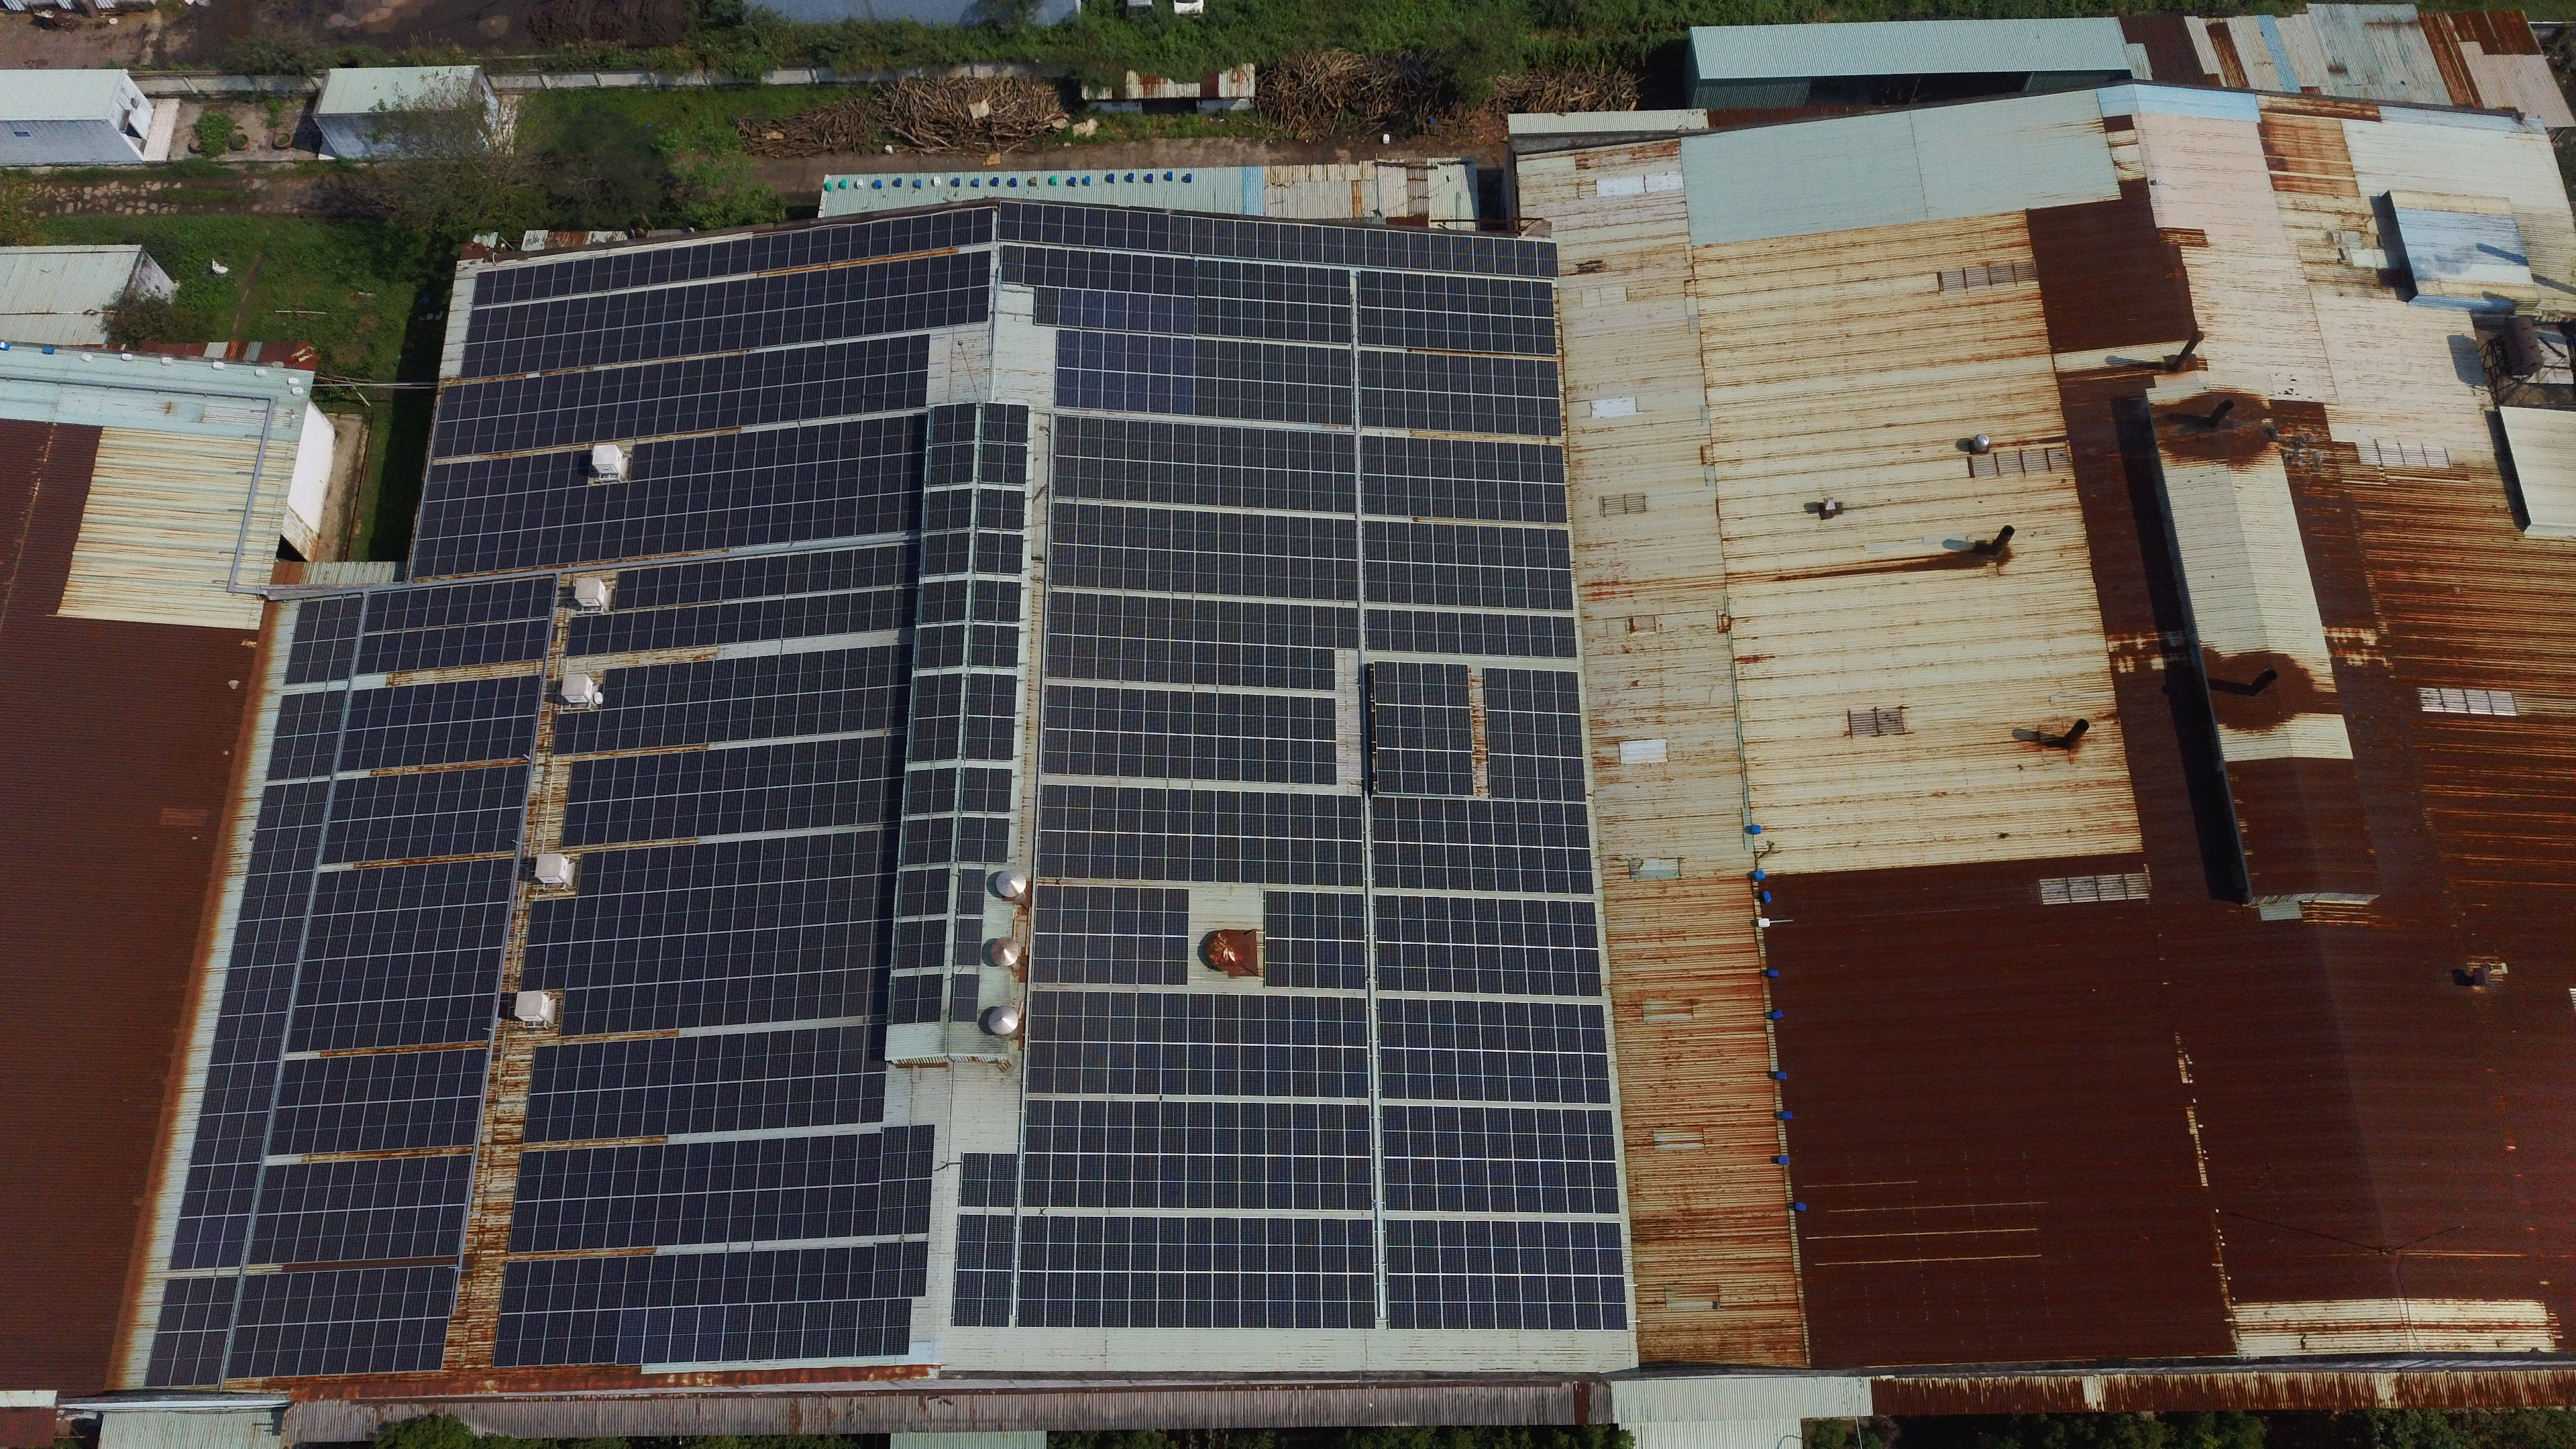solar: (144, 1332, 180, 1387), (168, 1330, 205, 1385), (193, 1330, 229, 1385), (205, 1277, 239, 1331), (181, 1277, 215, 1332), (156, 1279, 191, 1333), (615, 1308, 647, 1365), (642, 1307, 674, 1364), (667, 1306, 699, 1363), (693, 1305, 725, 1362), (721, 1305, 753, 1362), (747, 1303, 780, 1360), (773, 1302, 806, 1359), (800, 1301, 833, 1358), (828, 1300, 860, 1357), (854, 1299, 886, 1356), (227, 1324, 260, 1379), (247, 1325, 280, 1379), (272, 1324, 306, 1378), (297, 1322, 331, 1377), (321, 1321, 354, 1375), (344, 1320, 378, 1374), (368, 1319, 402, 1373), (392, 1318, 425, 1373), (417, 1317, 450, 1371), (490, 1313, 524, 1367), (515, 1313, 548, 1367), (540, 1311, 574, 1366), (565, 1310, 598, 1364), (588, 1309, 622, 1364), (881, 1299, 912, 1356), (898, 1240, 929, 1298), (871, 1242, 903, 1299), (846, 1244, 877, 1302), (822, 1244, 853, 1301), (796, 1246, 827, 1303), (769, 1247, 801, 1304), (745, 1249, 776, 1306), (720, 1250, 751, 1307), (695, 1251, 727, 1308), (670, 1252, 702, 1309), (646, 1254, 678, 1311), (622, 1254, 653, 1311), (596, 1254, 628, 1311), (572, 1256, 604, 1313), (548, 1258, 580, 1315), (523, 1260, 555, 1317), (500, 1259, 531, 1316), (981, 1271, 1013, 1327), (951, 1271, 983, 1327), (956, 1215, 988, 1271), (984, 1216, 1016, 1271), (1016, 1216, 1049, 1271), (1046, 1216, 1079, 1271), (1074, 1216, 1106, 1272), (1101, 1216, 1133, 1272), (1128, 1217, 1160, 1273), (1156, 1217, 1188, 1273), (1183, 1217, 1216, 1273), (1210, 1218, 1242, 1273), (1237, 1218, 1269, 1273), (1265, 1218, 1297, 1273), (1291, 1218, 1324, 1274), (1319, 1218, 1351, 1274), (1346, 1218, 1378, 1273), (1343, 1157, 1375, 1212), (1316, 1156, 1348, 1212), (1289, 1156, 1322, 1212), (1263, 1156, 1295, 1212), (1236, 1156, 1268, 1212), (1208, 1154, 1240, 1210), (1182, 1155, 1214, 1210), (1155, 1154, 1187, 1210), (1129, 1154, 1161, 1210), (1101, 1154, 1133, 1210), (1075, 1153, 1107, 1209), (1047, 1153, 1079, 1209), (1020, 1153, 1053, 1209), (987, 1152, 1020, 1208), (957, 1152, 989, 1208), (1024, 1099, 1056, 1155), (1050, 1099, 1082, 1155), (1076, 1100, 1108, 1156), (1104, 1099, 1136, 1155), (1130, 1100, 1163, 1156), (1157, 1101, 1189, 1157), (1184, 1100, 1216, 1156), (1210, 1102, 1242, 1158), (1238, 1102, 1270, 1157), (1262, 1102, 1294, 1158), (1289, 1103, 1321, 1159), (1315, 1103, 1347, 1159), (1343, 1104, 1375, 1159), (1342, 1044, 1374, 1099), (1313, 1045, 1346, 1101), (1288, 1043, 1320, 1099), (1261, 1042, 1293, 1098), (1235, 1042, 1267, 1098), (1210, 1043, 1242, 1099), (1185, 1042, 1218, 1098), (1158, 1041, 1190, 1097), (1130, 1043, 1163, 1099), (1104, 1041, 1136, 1097), (1077, 1040, 1110, 1095), (1050, 1040, 1082, 1095), (1024, 1040, 1056, 1095), (1026, 987, 1059, 1042), (1052, 989, 1084, 1045), (1081, 989, 1113, 1045), (1107, 989, 1139, 1044), (1134, 991, 1166, 1047), (1158, 991, 1190, 1047), (1185, 993, 1217, 1049), (1211, 991, 1243, 1047), (1235, 992, 1267, 1048), (1263, 994, 1295, 1050), (1289, 994, 1321, 1049), (1313, 996, 1345, 1051), (1340, 994, 1372, 1050), (1337, 938, 1369, 994), (1311, 938, 1343, 994), (1287, 936, 1319, 992), (1260, 936, 1293, 992), (1338, 890, 1370, 946), (1309, 888, 1342, 944), (1287, 888, 1319, 943), (1263, 887, 1295, 943), (1159, 933, 1191, 989), (1132, 931, 1165, 987), (1110, 931, 1142, 987), (1083, 932, 1115, 988), (1057, 932, 1089, 987), (1029, 930, 1061, 986), (1032, 881, 1065, 936), (1059, 883, 1091, 938), (1085, 883, 1117, 939), (1111, 882, 1143, 938), (1136, 882, 1168, 938), (1162, 885, 1194, 941), (1035, 826, 1067, 882), (1063, 829, 1095, 885), (1088, 828, 1120, 883), (1114, 828, 1146, 883), (1139, 829, 1171, 885), (1162, 828, 1194, 883), (1189, 830, 1221, 886), (1212, 831, 1244, 887), (1236, 833, 1268, 888), (1262, 834, 1294, 890), (1287, 835, 1320, 891), (1311, 836, 1343, 892), (1336, 835, 1368, 891), (1333, 792, 1365, 848), (1309, 792, 1341, 848), (1286, 790, 1318, 845), (1263, 788, 1295, 844), (1236, 787, 1268, 843), (1213, 787, 1245, 843), (1187, 787, 1219, 843), (1163, 784, 1195, 839), (1137, 782, 1169, 838), (1115, 784, 1147, 839), (1087, 782, 1119, 838), (1064, 782, 1096, 837), (1037, 782, 1069, 838), (508, 1198, 540, 1252), (531, 1199, 563, 1253), (555, 1197, 588, 1252), (578, 1197, 610, 1251), (604, 1195, 637, 1250), (627, 1194, 659, 1248), (653, 1193, 685, 1248), (677, 1192, 709, 1246), (702, 1191, 734, 1245), (726, 1190, 758, 1244), (751, 1189, 783, 1243), (775, 1187, 807, 1242), (800, 1185, 832, 1240), (824, 1185, 856, 1239), (849, 1183, 881, 1238), (875, 1181, 908, 1235), (901, 1179, 933, 1234), (904, 1125, 936, 1179), (878, 1126, 910, 1181), (851, 1132, 883, 1186), (827, 1132, 859, 1187), (802, 1135, 835, 1189), (779, 1136, 811, 1191), (754, 1136, 786, 1191), (730, 1138, 762, 1192), (706, 1139, 739, 1193), (682, 1140, 714, 1195), (656, 1142, 688, 1196), (633, 1144, 665, 1198), (609, 1144, 641, 1199), (585, 1145, 617, 1199), (561, 1146, 594, 1201), (539, 1148, 571, 1202), (169, 1217, 202, 1270), (194, 1216, 227, 1269), (217, 1215, 250, 1268), (247, 1214, 280, 1267), (270, 1212, 303, 1265), (292, 1210, 325, 1263), (316, 1210, 349, 1263), (339, 1208, 372, 1261), (362, 1207, 395, 1260), (386, 1205, 419, 1258), (409, 1205, 442, 1258), (433, 1203, 466, 1256), (425, 1266, 458, 1319), (400, 1267, 433, 1320), (376, 1268, 409, 1321), (353, 1269, 386, 1322), (329, 1270, 362, 1323), (305, 1271, 338, 1324), (282, 1272, 315, 1325), (258, 1273, 290, 1326), (235, 1275, 268, 1328), (515, 1148, 547, 1202), (523, 1091, 554, 1144), (545, 1089, 577, 1143), (568, 1089, 600, 1143), (593, 1087, 625, 1141), (615, 1086, 647, 1140), (641, 1085, 673, 1138), (665, 1083, 696, 1136), (688, 1082, 719, 1136), (711, 1080, 743, 1134), (737, 1079, 768, 1132), (759, 1077, 791, 1131), (784, 1076, 815, 1130), (808, 1075, 840, 1128), (833, 1073, 865, 1127), (856, 1073, 888, 1126), (859, 1022, 891, 1076), (265, 963, 297, 1014), (242, 965, 274, 1016), (219, 966, 252, 1016), (209, 1015, 241, 1065), (233, 1014, 265, 1065), (256, 1012, 288, 1063), (1383, 1157, 1413, 1211), (1409, 1157, 1439, 1212), (1436, 1159, 1466, 1213), (1462, 1159, 1492, 1214), (1487, 1159, 1516, 1214), (1513, 1160, 1543, 1214), (1540, 1160, 1569, 1214), (1566, 1161, 1596, 1215), (1591, 1161, 1620, 1215), (1596, 1222, 1625, 1277), (1568, 1222, 1598, 1276), (1543, 1222, 1572, 1276), (1517, 1222, 1547, 1276), (1492, 1222, 1521, 1276), (1466, 1220, 1495, 1275), (1437, 1220, 1466, 1274), (1411, 1219, 1440, 1273), (1385, 1220, 1415, 1274), (1386, 1274, 1415, 1328), (1413, 1275, 1443, 1330), (1440, 1275, 1470, 1330), (1468, 1275, 1497, 1329), (1495, 1275, 1524, 1329), (1520, 1275, 1550, 1330), (1548, 1275, 1577, 1330), (1572, 1275, 1602, 1330), (1599, 1275, 1629, 1330), (1348, 1274, 1377, 1328), (1321, 1274, 1350, 1328), (1292, 1273, 1322, 1328), (1265, 1274, 1295, 1328), (1238, 1273, 1268, 1328), (1212, 1273, 1241, 1327), (1185, 1273, 1215, 1328), (1157, 1273, 1186, 1327), (1130, 1272, 1159, 1326), (1102, 1273, 1131, 1327), (1073, 1273, 1103, 1327), (1045, 1272, 1075, 1326), (1016, 1272, 1046, 1326), (200, 1065, 231, 1116), (190, 1114, 221, 1165), (213, 1114, 245, 1164), (238, 1111, 270, 1161), (268, 1107, 299, 1157), (290, 1106, 321, 1156), (313, 1104, 345, 1154), (335, 1103, 366, 1153), (358, 1102, 390, 1152), (380, 1100, 412, 1150), (404, 1099, 435, 1149), (427, 1098, 458, 1148), (451, 1097, 483, 1147), (442, 1155, 474, 1205), (418, 1157, 449, 1207), (395, 1157, 427, 1207), (370, 1159, 402, 1209), (348, 1160, 380, 1210), (325, 1160, 357, 1210), (303, 1162, 334, 1212), (278, 1164, 310, 1214), (257, 1165, 288, 1216), (227, 1165, 259, 1215), (204, 1166, 235, 1216), (180, 1167, 211, 1217), (838, 1023, 867, 1075), (814, 1026, 843, 1079), (788, 1028, 818, 1081), (765, 1028, 794, 1081), (740, 1030, 769, 1083), (716, 1032, 745, 1085), (693, 1034, 722, 1086), (669, 1035, 699, 1087), (646, 1036, 676, 1089), (623, 1038, 652, 1090), (599, 1039, 629, 1091), (575, 1041, 604, 1093), (552, 1043, 582, 1095), (529, 1044, 558, 1096), (559, 986, 589, 1038), (582, 985, 612, 1037), (605, 983, 635, 1035), (628, 982, 657, 1034), (652, 980, 682, 1032), (676, 979, 705, 1031), (700, 977, 729, 1029), (722, 975, 751, 1027), (746, 973, 775, 1025), (769, 971, 799, 1023), (792, 969, 822, 1022), (816, 967, 846, 1020), (841, 965, 870, 1017), (865, 965, 895, 1017), (867, 918, 897, 970), (844, 918, 873, 971), (820, 921, 849, 973), (797, 923, 826, 975), (773, 924, 803, 976), (749, 926, 779, 979), (725, 928, 755, 981), (703, 931, 733, 983), (680, 932, 709, 985), (657, 934, 686, 986), (634, 934, 663, 987), (610, 936, 639, 988), (587, 938, 616, 990), (564, 938, 594, 991), (541, 941, 571, 993), (520, 943, 549, 995), (526, 898, 555, 950), (547, 896, 577, 949), (570, 894, 599, 946), (592, 892, 622, 945), (616, 890, 645, 943), (639, 889, 668, 941), (661, 887, 690, 939), (684, 886, 713, 938), (708, 884, 737, 936), (731, 883, 760, 935), (753, 880, 783, 932), (776, 879, 806, 931), (800, 877, 830, 929), (824, 875, 854, 927), (848, 874, 877, 926), (871, 871, 900, 923), (874, 825, 904, 877), (850, 826, 879, 878), (828, 828, 857, 881), (803, 832, 833, 884), (781, 833, 810, 885), (757, 835, 786, 887), (287, 1004, 318, 1053), (308, 1003, 339, 1053), (329, 1002, 360, 1051), (352, 1001, 383, 1051), (376, 1000, 407, 1049), (398, 998, 429, 1048), (420, 997, 451, 1046), (443, 996, 474, 1045), (466, 994, 496, 1044), (458, 1048, 488, 1097), (435, 1049, 466, 1099), (412, 1051, 443, 1101), (389, 1053, 420, 1102), (366, 1055, 397, 1104), (343, 1054, 374, 1104), (321, 1057, 352, 1106), (298, 1059, 329, 1108), (276, 1059, 307, 1108), (248, 1062, 278, 1112), (224, 1064, 255, 1114), (1407, 1106, 1436, 1157), (1381, 1105, 1410, 1157), (1379, 1048, 1407, 1099), (1404, 1049, 1433, 1100), (1431, 1051, 1460, 1102), (1456, 1050, 1485, 1101), (1481, 1051, 1510, 1102), (1507, 1051, 1536, 1102), (1533, 1052, 1562, 1103), (1557, 1052, 1586, 1103), (1582, 1053, 1611, 1104), (1587, 1110, 1616, 1161), (1561, 1109, 1590, 1160), (1537, 1109, 1566, 1160), (1509, 1108, 1538, 1159), (1485, 1108, 1513, 1159), (1459, 1108, 1488, 1159), (1434, 1107, 1462, 1158), (237, 874, 268, 922), (229, 920, 260, 967), (251, 918, 282, 966), (274, 918, 305, 965), (301, 914, 332, 962), (324, 912, 355, 960), (346, 912, 377, 959), (368, 910, 398, 958), (391, 909, 422, 957), (412, 907, 443, 955), (434, 905, 465, 953), (456, 904, 487, 951), (479, 902, 510, 950), (474, 947, 504, 994), (449, 949, 480, 997), (427, 951, 458, 999), (405, 953, 436, 1000), (382, 954, 413, 1002), (360, 955, 391, 1003), (337, 956, 368, 1004), (316, 958, 347, 1006), (294, 960, 325, 1008), (737, 837, 766, 886), (711, 841, 741, 890), (689, 841, 718, 891), (667, 842, 696, 892), (644, 845, 674, 895), (621, 846, 651, 896), (598, 847, 628, 897), (576, 849, 606, 898), (560, 800, 590, 849), (582, 800, 612, 849), (604, 797, 634, 847), (627, 796, 657, 846), (649, 792, 680, 841), (671, 792, 701, 841), (693, 791, 723, 839), (715, 788, 745, 837), (739, 787, 769, 835), (761, 785, 792, 833), (784, 784, 814, 832), (807, 782, 837, 830), (830, 780, 861, 828), (854, 779, 884, 827), (878, 776, 908, 824), (1375, 941, 1403, 991), (1400, 943, 1429, 993), (1426, 944, 1455, 994), (1450, 945, 1479, 994), (1475, 945, 1504, 994), (1501, 946, 1529, 996), (1525, 947, 1554, 996), (1550, 947, 1579, 997), (1574, 948, 1603, 998), (1580, 1004, 1609, 1053), (1554, 1004, 1583, 1053), (1529, 1003, 1558, 1053), (1505, 1002, 1534, 1052), (1479, 1001, 1508, 1051), (1453, 1000, 1482, 1050), (1428, 1000, 1456, 1049), (1402, 999, 1431, 1049), (1377, 998, 1405, 1048), (919, 918, 948, 967), (955, 917, 983, 966), (951, 973, 980, 1022), (914, 974, 943, 1023), (891, 975, 920, 1024), (300, 782, 330, 827), (278, 783, 309, 828), (256, 784, 286, 830), (248, 828, 278, 874), (270, 826, 301, 872), (292, 826, 322, 871), (283, 641, 313, 686), (305, 639, 335, 684), (326, 638, 356, 682), (930, 767, 959, 814), (905, 769, 934, 816), (902, 819, 930, 865), (926, 818, 955, 864), (955, 815, 983, 861), (981, 816, 1010, 863), (957, 869, 985, 916), (924, 868, 953, 914), (898, 869, 927, 916), (894, 922, 922, 969), (322, 819, 351, 865), (342, 817, 371, 863), (363, 816, 392, 863), (384, 815, 413, 861), (407, 814, 435, 860), (429, 812, 458, 859), (450, 810, 479, 856), (472, 808, 500, 855), (494, 807, 523, 853), (488, 857, 517, 904), (465, 859, 494, 906), (442, 861, 471, 907), (421, 863, 450, 909), (399, 864, 428, 910), (376, 866, 405, 912), (354, 867, 382, 913), (332, 870, 361, 916), (312, 871, 341, 918), (283, 872, 312, 918), (261, 873, 290, 919), (812, 740, 841, 785), (790, 741, 819, 786), (767, 743, 796, 788), (743, 745, 772, 790), (720, 747, 749, 792), (699, 749, 728, 794), (677, 750, 706, 795), (654, 753, 683, 798), (632, 754, 661, 799), (610, 756, 639, 801), (588, 758, 617, 803), (566, 760, 595, 805), (500, 765, 529, 810), (478, 766, 507, 811), (458, 768, 486, 813), (435, 769, 464, 814), (414, 771, 443, 816), (393, 772, 422, 817), (370, 775, 399, 820), (350, 777, 378, 822), (330, 777, 359, 822), (275, 694, 304, 737), (266, 737, 295, 780), (289, 735, 318, 779), (311, 733, 339, 777), (337, 730, 366, 773), (358, 727, 387, 771), (379, 726, 408, 769), (400, 724, 429, 768), (422, 723, 451, 767), (444, 720, 473, 764), (464, 719, 492, 763), (485, 717, 514, 761), (508, 715, 537, 759), (550, 712, 579, 756), (572, 710, 601, 754), (594, 709, 623, 753), (616, 706, 645, 750), (638, 705, 667, 749), (660, 703, 689, 747), (682, 702, 710, 745), (703, 700, 732, 744), (727, 698, 755, 741), (748, 696, 777, 740), (771, 694, 800, 738), (794, 693, 823, 737), (816, 691, 845, 735), (839, 689, 867, 733), (862, 687, 891, 731), (884, 686, 913, 729), (881, 735, 910, 779), (856, 736, 885, 780), (835, 738, 864, 782), (1372, 842, 1399, 888), (1397, 843, 1424, 890), (1421, 843, 1448, 890), (1446, 845, 1473, 891), (1471, 845, 1498, 891), (1495, 845, 1521, 892), (1519, 846, 1546, 892), (1544, 847, 1570, 894), (1568, 848, 1595, 894), (1572, 902, 1599, 948), (1549, 901, 1576, 947), (1522, 900, 1549, 947), (1499, 899, 1525, 945), (1473, 899, 1500, 945), (1449, 898, 1476, 944), (1424, 897, 1451, 943), (1399, 896, 1426, 942), (1373, 896, 1400, 942), (356, 633, 384, 676), (374, 631, 403, 674), (396, 630, 425, 673), (416, 629, 445, 672), (437, 627, 466, 669), (458, 625, 487, 667), (480, 623, 509, 665), (500, 621, 529, 663), (521, 619, 550, 662), (888, 643, 916, 686), (864, 646, 892, 690), (843, 647, 870, 690), (820, 649, 847, 693), (798, 651, 825, 694), (775, 653, 802, 697), (753, 655, 780, 699), (731, 656, 758, 700), (709, 657, 737, 701), (686, 661, 714, 704), (665, 661, 693, 705), (643, 664, 671, 708), (622, 665, 649, 709), (600, 667, 628, 710), (514, 674, 541, 717), (493, 677, 521, 720), (472, 678, 499, 722), (450, 680, 478, 723), (429, 682, 456, 725), (409, 683, 436, 727), (386, 685, 414, 729), (366, 686, 393, 730), (345, 688, 373, 732), (317, 690, 345, 734), (297, 692, 324, 736), (1050, 543, 1077, 586), (1075, 545, 1102, 589), (1097, 547, 1125, 591), (1122, 548, 1150, 592), (1146, 549, 1173, 592), (1169, 549, 1197, 593), (1192, 552, 1220, 596), (1218, 553, 1245, 596), (1240, 555, 1268, 598), (1263, 555, 1291, 598), (1286, 557, 1313, 600), (1309, 557, 1337, 601), (1333, 558, 1360, 602), (1363, 561, 1391, 604), (1387, 561, 1414, 605), (1410, 563, 1438, 606), (1432, 563, 1460, 606), (1456, 564, 1483, 608), (1480, 566, 1507, 610), (1502, 566, 1529, 610), (1524, 567, 1552, 610), (1548, 569, 1575, 612), (1552, 614, 1579, 658), (1528, 615, 1556, 659), (1505, 614, 1533, 658), (1483, 613, 1510, 657), (1458, 612, 1486, 656), (1435, 612, 1462, 655), (1412, 610, 1440, 654), (1389, 609, 1416, 653), (1364, 608, 1392, 652), (1334, 607, 1362, 651), (1311, 606, 1338, 649), (1287, 604, 1314, 648), (1263, 603, 1290, 647), (1240, 602, 1267, 645), (1217, 600, 1244, 643), (1193, 600, 1221, 643), (1169, 598, 1196, 642), (1144, 597, 1172, 641), (1120, 596, 1148, 640), (1096, 594, 1124, 637), (1071, 593, 1099, 637), (1048, 591, 1075, 635), (1046, 635, 1074, 678), (1070, 636, 1097, 680), (1095, 637, 1123, 681), (1120, 637, 1148, 681), (1143, 640, 1171, 684), (1168, 641, 1195, 684), (1192, 641, 1220, 685), (1216, 644, 1243, 688), (1239, 645, 1267, 688), (1264, 645, 1291, 689), (1287, 647, 1315, 690), (1310, 647, 1338, 691), (1372, 661, 1399, 704), (1396, 663, 1424, 706), (1420, 663, 1448, 706), (1444, 663, 1471, 707), (1483, 667, 1511, 711), (1507, 669, 1535, 712), (1532, 669, 1559, 713), (1553, 670, 1580, 714), (1556, 714, 1584, 757), (1535, 712, 1562, 756), (1509, 712, 1537, 755), (1487, 711, 1514, 755), (1446, 707, 1474, 751), (1422, 707, 1450, 751), (1397, 706, 1425, 749), (1375, 705, 1402, 749), (1310, 697, 1338, 741), (1287, 696, 1315, 740), (1263, 696, 1290, 739), (1238, 694, 1266, 738), (1215, 692, 1242, 736), (1191, 693, 1218, 737), (1167, 691, 1195, 735), (1143, 690, 1171, 734), (1118, 689, 1146, 733), (1093, 688, 1121, 731), (1069, 686, 1097, 730), (1044, 686, 1072, 729), (1042, 730, 1069, 773), (1069, 731, 1096, 775), (1092, 732, 1120, 775), (1116, 733, 1144, 776), (1141, 734, 1169, 777), (1166, 735, 1193, 779), (1190, 737, 1218, 780), (1214, 738, 1241, 782), (1238, 738, 1266, 782), (1263, 739, 1290, 783), (1288, 740, 1316, 784), (1311, 741, 1338, 785), (1375, 748, 1403, 792), (1401, 750, 1428, 794), (1425, 750, 1452, 794), (1448, 751, 1475, 795), (1489, 755, 1516, 798), (1513, 755, 1540, 799), (1536, 756, 1564, 800), (1561, 757, 1589, 801), (1564, 804, 1591, 848), (1540, 803, 1568, 847), (1515, 802, 1542, 845), (1492, 802, 1519, 845), (1467, 800, 1495, 844), (1443, 800, 1470, 844), (1419, 799, 1447, 843), (1394, 799, 1421, 843), (1371, 798, 1398, 841), (336, 597, 364, 640), (315, 599, 342, 642), (292, 600, 320, 643), (937, 673, 963, 717), (914, 674, 941, 718), (910, 718, 936, 762), (934, 717, 961, 761), (965, 715, 991, 759), (989, 716, 1015, 761), (986, 769, 1012, 813), (963, 767, 989, 812), (566, 614, 592, 656), (586, 613, 613, 655), (607, 612, 634, 653), (629, 610, 655, 652), (650, 608, 677, 650), (672, 607, 699, 649), (694, 604, 720, 646), (714, 603, 741, 645), (737, 601, 763, 643), (759, 598, 786, 640), (781, 597, 808, 639), (803, 595, 830, 637), (824, 594, 851, 635), (847, 592, 873, 633), (869, 590, 896, 631), (893, 588, 920, 630), (1034, 285, 1061, 326), (1058, 288, 1085, 329), (1079, 290, 1106, 331), (1103, 292, 1130, 333), (1124, 292, 1151, 333), (1148, 294, 1175, 335), (1172, 294, 1199, 335), (1194, 295, 1221, 336), (1216, 297, 1243, 338), (1238, 299, 1265, 339), (1262, 301, 1289, 341), (1283, 303, 1310, 343), (1305, 303, 1332, 344), (1328, 305, 1355, 345), (1358, 306, 1385, 347), (1380, 309, 1407, 350), (1402, 309, 1429, 350), (1424, 311, 1450, 352), (1447, 311, 1474, 352), (1467, 312, 1494, 353), (1488, 313, 1515, 354), (1510, 315, 1537, 356), (1532, 316, 1558, 357), (1535, 359, 1562, 400), (1513, 358, 1540, 398), (1491, 357, 1518, 398), (1468, 356, 1495, 396), (1446, 356, 1473, 396), (1425, 354, 1452, 394), (1403, 353, 1430, 394), (1381, 350, 1407, 390), (1358, 350, 1385, 390), (1328, 347, 1354, 388), (1304, 346, 1331, 387), (1283, 344, 1310, 385), (1260, 343, 1287, 384), (1238, 341, 1265, 382), (1216, 341, 1242, 382), (1191, 338, 1218, 379), (1170, 337, 1197, 378), (1147, 336, 1174, 377), (1124, 334, 1151, 375), (1102, 332, 1128, 373), (1079, 331, 1106, 372), (1055, 329, 1081, 370), (1053, 368, 1080, 409), (1077, 370, 1104, 411), (1100, 371, 1127, 412), (1124, 372, 1150, 413), (1146, 374, 1173, 415), (1169, 375, 1195, 416), (1191, 376, 1218, 417), (1216, 379, 1242, 420), (1240, 380, 1267, 421), (1260, 382, 1287, 423), (1284, 382, 1311, 423), (1306, 384, 1333, 425), (1328, 386, 1354, 427), (1358, 388, 1385, 429), (1381, 388, 1408, 429), (1403, 389, 1430, 430), (1426, 390, 1452, 431), (1448, 392, 1475, 433), (1470, 393, 1497, 434), (1493, 395, 1520, 436), (1514, 396, 1541, 437), (1538, 396, 1565, 437), (1540, 443, 1566, 484), (1518, 441, 1545, 482), (1495, 442, 1521, 483), (1472, 440, 1499, 481), (1451, 439, 1478, 480), (1428, 438, 1455, 479), (1406, 437, 1433, 478), (1382, 437, 1409, 478), (1360, 436, 1387, 477), (1332, 433, 1358, 474), (1309, 432, 1336, 473), (1285, 431, 1311, 472), (1263, 429, 1289, 470), (1241, 427, 1268, 468), (1217, 425, 1244, 466), (1193, 425, 1220, 466), (1171, 424, 1197, 465), (1148, 422, 1175, 463), (1124, 421, 1151, 462), (1102, 420, 1128, 461), (1079, 417, 1106, 458), (916, 626, 942, 669), (902, 413, 928, 454), (900, 452, 926, 494), (877, 453, 904, 495), (855, 455, 881, 497), (835, 458, 861, 499), (814, 460, 840, 502), (792, 462, 818, 504), (769, 464, 796, 505), (750, 467, 776, 508), (729, 468, 755, 510), (708, 471, 734, 513), (686, 474, 712, 515), (666, 475, 692, 517), (645, 477, 671, 519), (624, 479, 650, 521), (604, 481, 630, 523), (582, 483, 608, 525), (561, 486, 588, 527), (541, 488, 568, 529), (521, 490, 547, 531), (500, 492, 527, 533), (480, 494, 506, 535), (460, 496, 486, 538), (439, 498, 466, 539), (419, 500, 445, 541), (413, 538, 439, 580), (433, 537, 459, 578), (454, 535, 480, 576), (474, 531, 500, 573), (494, 530, 521, 572), (515, 528, 541, 570), (535, 527, 561, 568), (557, 524, 583, 566), (578, 522, 604, 563), (598, 520, 625, 561), (620, 518, 646, 559), (640, 516, 666, 557), (661, 513, 688, 555), (682, 511, 708, 553), (703, 510, 729, 551), (724, 507, 751, 549), (745, 504, 771, 546), (767, 504, 794, 545), (789, 501, 815, 543), (811, 499, 837, 541), (833, 497, 859, 539), (855, 496, 881, 537), (875, 493, 902, 535), (898, 490, 924, 532), (895, 543, 921, 585), (871, 546, 898, 588), (851, 548, 877, 590), (828, 550, 855, 592), (807, 551, 833, 593), (784, 554, 810, 596), (763, 556, 789, 598), (741, 557, 767, 599), (718, 559, 745, 600), (700, 561, 726, 602), (676, 564, 702, 606), (655, 566, 682, 608), (635, 568, 661, 610), (614, 569, 640, 610), (529, 576, 555, 618), (508, 579, 534, 621), (487, 581, 513, 623), (467, 583, 493, 625), (446, 585, 472, 627), (425, 586, 451, 627), (405, 588, 431, 629), (384, 590, 411, 632), (363, 593, 389, 635), (1055, 417, 1081, 458), (1053, 457, 1079, 498), (1078, 458, 1104, 498), (1102, 460, 1128, 500), (1124, 461, 1150, 502), (1147, 462, 1173, 502), (1171, 463, 1197, 504), (1194, 464, 1220, 505), (1217, 466, 1243, 506), (1240, 468, 1267, 508), (1264, 469, 1290, 510), (1288, 470, 1314, 511), (1310, 471, 1336, 512), (1333, 474, 1359, 515), (1361, 475, 1387, 516), (1385, 476, 1411, 517), (1408, 477, 1434, 518), (1430, 478, 1456, 519), (1452, 480, 1479, 521), (1474, 480, 1501, 521), (1499, 481, 1525, 522), (1520, 482, 1546, 523), (1542, 484, 1568, 525), (1546, 529, 1572, 570), (1523, 528, 1549, 569), (1500, 527, 1526, 568), (1478, 525, 1504, 566), (1455, 525, 1481, 566), (1432, 525, 1458, 566), (1409, 523, 1435, 563), (1386, 522, 1412, 563), (1362, 521, 1389, 561), (1334, 519, 1360, 559), (1309, 518, 1335, 559), (1287, 517, 1313, 558), (1264, 515, 1290, 556), (1241, 514, 1267, 555), (1217, 513, 1243, 553), (1195, 511, 1221, 552), (1171, 510, 1197, 551), (1148, 508, 1174, 549), (1124, 508, 1150, 549), (1099, 506, 1126, 547), (1075, 504, 1102, 545), (1053, 503, 1079, 544), (941, 625, 965, 667), (971, 624, 996, 667), (995, 624, 1020, 667), (991, 674, 1016, 716), (968, 674, 993, 716), (977, 488, 1003, 528), (1000, 490, 1025, 530), (998, 533, 1024, 574), (976, 533, 1002, 573), (945, 533, 971, 573), (923, 534, 949, 574), (996, 582, 1022, 623), (972, 581, 998, 621), (943, 581, 969, 621), (920, 582, 945, 623), (740, 352, 765, 390), (761, 349, 786, 388), (781, 347, 806, 386), (802, 345, 828, 384), (822, 343, 848, 382), (843, 340, 869, 379), (865, 338, 890, 377), (885, 336, 910, 375), (906, 334, 932, 373), (533, 410, 559, 449), (513, 413, 538, 451), (493, 415, 519, 453), (473, 417, 498, 455), (452, 418, 478, 457), (432, 420, 458, 459), (425, 463, 450, 502), (445, 462, 471, 501), (466, 460, 491, 499), (486, 458, 511, 497), (506, 456, 531, 495), (526, 453, 551, 492), (547, 451, 573, 490), (567, 449, 592, 488), (628, 443, 653, 482), (649, 441, 674, 480), (670, 438, 696, 477), (691, 435, 716, 474), (712, 433, 737, 472), (733, 432, 758, 471), (753, 429, 779, 468), (774, 427, 800, 466), (795, 425, 820, 464), (816, 423, 842, 462), (837, 421, 863, 460), (858, 419, 883, 458), (879, 417, 905, 455), (998, 201, 1022, 241), (1020, 203, 1044, 244), (1041, 203, 1065, 244), (1063, 205, 1087, 246), (1083, 207, 1107, 248), (1105, 209, 1129, 250), (1126, 210, 1150, 251), (1148, 213, 1173, 254), (1169, 214, 1193, 255), (1191, 216, 1216, 257), (1213, 218, 1237, 259), (1235, 220, 1259, 261), (1256, 221, 1280, 262), (1279, 223, 1303, 264), (1301, 223, 1326, 264), (1321, 225, 1345, 266), (1344, 227, 1368, 268), (1366, 229, 1390, 270), (1387, 231, 1411, 272), (1407, 232, 1432, 273), (1430, 232, 1454, 273), (1451, 233, 1475, 274), (1472, 235, 1497, 276), (1493, 236, 1517, 277), (1515, 237, 1539, 278), (1536, 240, 1560, 281), (1532, 278, 1556, 319), (1509, 280, 1534, 321), (1489, 278, 1513, 319), (1467, 276, 1491, 317), (1444, 275, 1468, 316), (1424, 273, 1448, 314), (1402, 272, 1426, 313), (1380, 270, 1404, 311), (1358, 269, 1382, 310), (1328, 267, 1352, 308), (1307, 266, 1331, 307), (1285, 265, 1309, 306), (1263, 263, 1287, 304), (1240, 262, 1265, 303), (1219, 260, 1243, 301), (1195, 258, 1220, 299), (1173, 257, 1197, 298), (1152, 256, 1176, 297), (1130, 254, 1155, 295), (1109, 252, 1133, 293), (1087, 252, 1112, 292), (1067, 250, 1091, 290), (1044, 248, 1069, 289), (1022, 246, 1046, 286), (1002, 244, 1026, 284), (931, 403, 956, 443), (952, 402, 977, 442), (983, 402, 1008, 442), (1005, 402, 1030, 442), (1003, 444, 1028, 484), (981, 443, 1006, 483), (951, 443, 975, 483), (928, 446, 953, 486), (925, 490, 950, 530), (948, 489, 973, 529), (439, 384, 464, 422), (458, 383, 483, 421), (479, 382, 504, 419), (498, 378, 523, 416), (519, 377, 543, 415), (538, 374, 563, 412), (558, 372, 583, 410), (579, 370, 604, 408), (598, 368, 623, 406), (619, 366, 643, 403), (639, 364, 663, 401), (659, 361, 684, 398), (680, 360, 704, 397), (700, 357, 724, 394), (720, 355, 745, 392), (905, 370, 928, 409), (884, 372, 908, 411), (863, 375, 886, 414), (842, 376, 865, 415), (821, 378, 845, 417), (800, 382, 823, 421), (779, 384, 802, 423), (759, 386, 782, 425), (738, 388, 761, 427), (716, 390, 740, 429), (697, 392, 720, 431), (676, 394, 699, 433), (655, 396, 679, 435), (635, 398, 659, 437), (615, 401, 639, 440), (595, 403, 619, 442), (574, 406, 597, 445), (555, 408, 578, 447), (472, 271, 496, 307), (492, 268, 517, 303), (511, 266, 536, 302), (530, 264, 555, 300), (550, 261, 575, 297), (570, 258, 595, 294), (589, 256, 614, 292), (608, 254, 633, 290), (628, 251, 653, 286), (648, 248, 673, 284), (668, 246, 693, 282), (688, 244, 712, 279), (708, 241, 733, 277), (727, 237, 751, 273), (747, 235, 772, 271), (767, 233, 792, 269), (787, 231, 812, 267), (806, 229, 831, 265), (827, 226, 852, 262), (847, 223, 872, 258), (867, 221, 892, 256), (888, 218, 912, 254), (908, 216, 933, 252), (929, 213, 954, 248), (950, 211, 975, 246), (971, 209, 996, 244), (967, 251, 992, 286), (947, 254, 972, 289), (926, 256, 951, 291), (906, 258, 930, 293), (886, 261, 911, 297), (865, 264, 890, 299), (845, 266, 869, 301), (822, 268, 847, 304), (803, 271, 828, 307), (782, 273, 807, 309), (763, 275, 788, 311), (742, 278, 767, 313), (723, 280, 748, 315), (703, 282, 728, 318), (683, 283, 708, 319), (663, 286, 688, 321), (643, 288, 667, 324), (623, 290, 648, 326), (603, 293, 628, 329), (584, 296, 609, 331), (563, 298, 588, 333), (544, 300, 569, 335), (525, 302, 549, 337), (506, 304, 531, 339), (485, 307, 510, 342), (466, 308, 491, 343), (461, 343, 486, 379), (480, 341, 504, 377), (501, 339, 526, 374), (520, 337, 545, 372), (539, 334, 564, 370), (559, 332, 584, 368), (578, 331, 603, 366), (599, 328, 624, 364), (618, 326, 643, 362), (639, 324, 663, 360), (658, 322, 683, 358), (679, 319, 704, 355), (699, 317, 724, 353), (718, 315, 743, 350), (739, 313, 764, 348), (761, 311, 786, 346), (780, 308, 804, 343), (802, 307, 826, 342), (822, 303, 847, 339), (841, 301, 865, 336), (863, 299, 888, 334), (882, 297, 907, 332), (904, 294, 928, 329), (924, 292, 949, 327), (944, 288, 969, 324), (967, 286, 991, 322)
